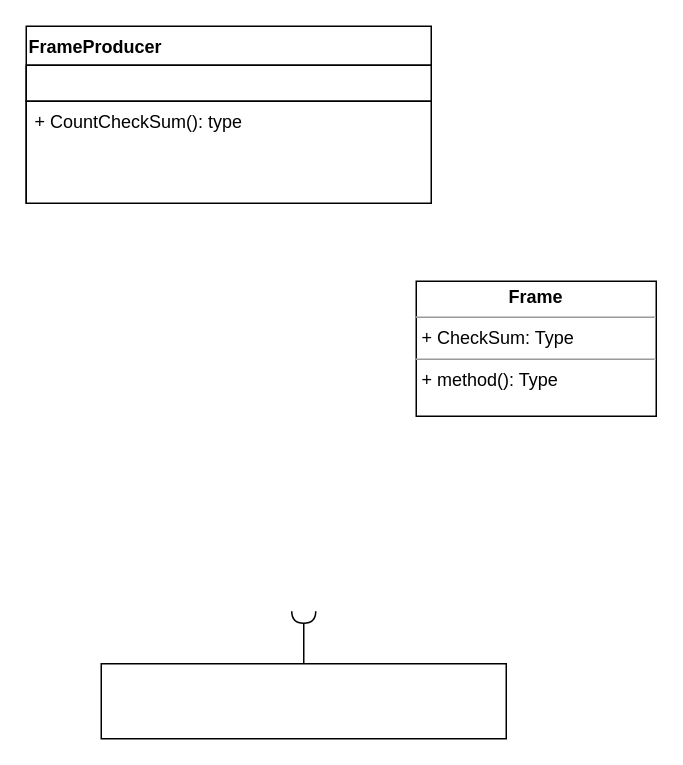
Image size: 683x765. Some labels were removed from this diagram. Here are the shapes that lost their labels. From the top down, the centre of each, then its label:
At point 228,82: "+ field: type".
At point 303,700: "PhysicalLevelService".
